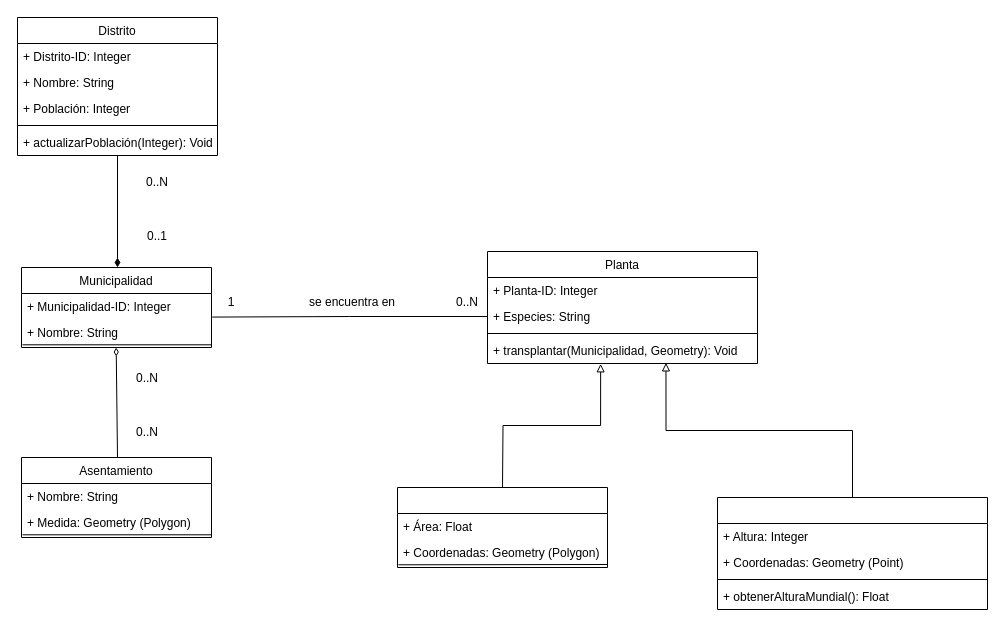
Some shapes in this 1005 by 630 pixel diagram are drawn without their labels. The shapes that lost their labels are listed below. From the top down, each one's box as (x1, y1, x2, y2) in pixels, then its label:
(396, 486, 608, 568): Musgo
(716, 496, 988, 610): Árbol
